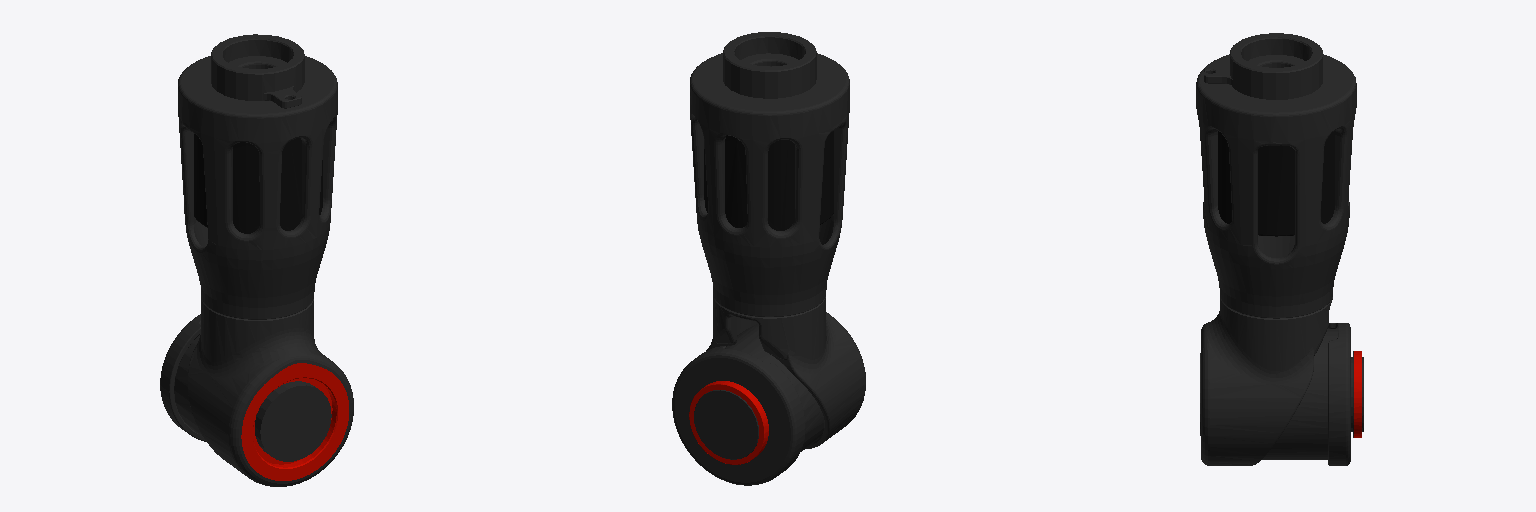
3 views of the same model, side by side, from view 1: azimuth 30°, elevation 25°; view 2: azimuth 150°, elevation 25°; view 3: azimuth 270°, elevation 25° (orthographic).
Parts seen in each view (by area): view 1: AR3; view 2: AR3; view 3: AR3.
Part boxes in pixels (left/top/right/bottom): AR3: left=160, top=34, right=353, bottom=486; AR3: left=672, top=32, right=865, bottom=485; AR3: left=1196, top=33, right=1363, bottom=465.
Bounding box in the file's own units: 0.068 × 0.1906 × 0.071.